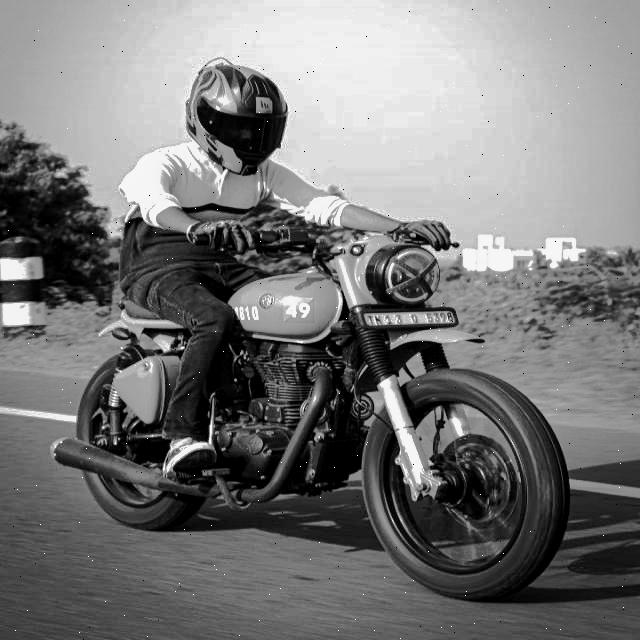Bike: (95, 222, 572, 605)
